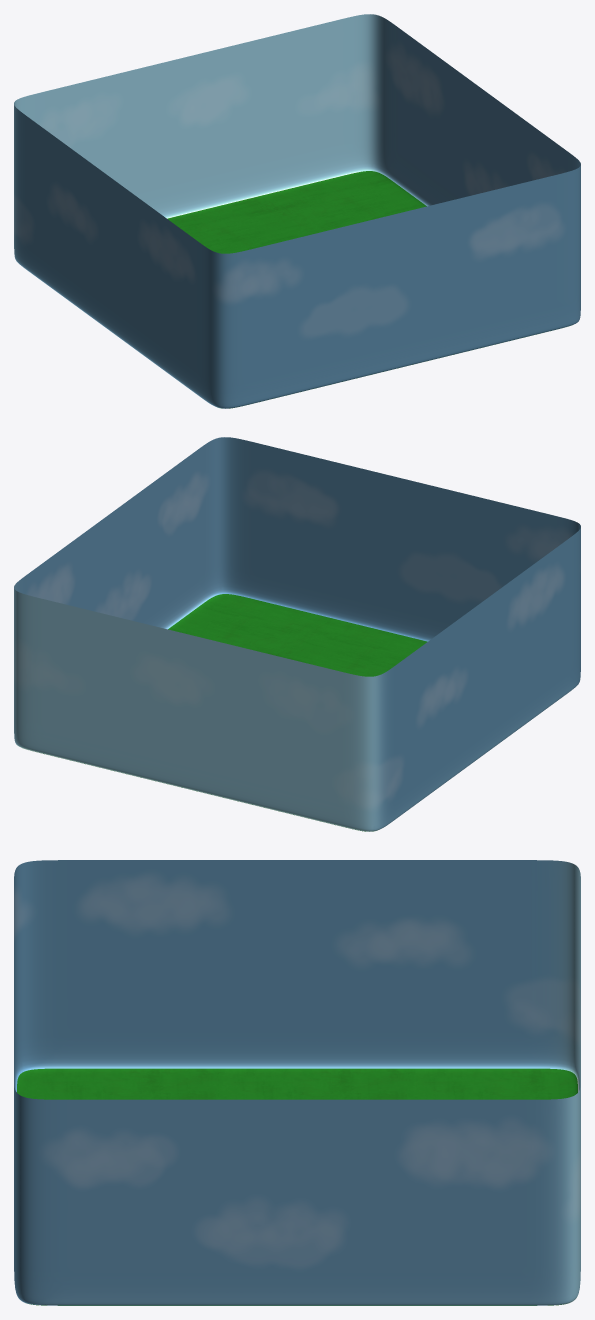
Rendered from Playground_Room.glb.
3 views of the same model, one above another, from view 1: azimuth 30°, elevation 25°; view 2: azimuth 150°, elevation 25°; view 3: azimuth 270°, elevation 25° (orthographic). The views are drawn at different scales.
Parts seen in each view (by area): view 1: playgroundRoomLOW; view 2: playgroundRoomLOW; view 3: playgroundRoomLOW.
Part boxes in pixels (<box>): playgroundRoomLOW: <box>14,14,580,408</box>; playgroundRoomLOW: <box>14,437,580,831</box>; playgroundRoomLOW: <box>14,860,580,1305</box>.
Bounding box in the file's own units: 50 × 20.38 × 50.
Materials: 1 (1 with a texture image).
